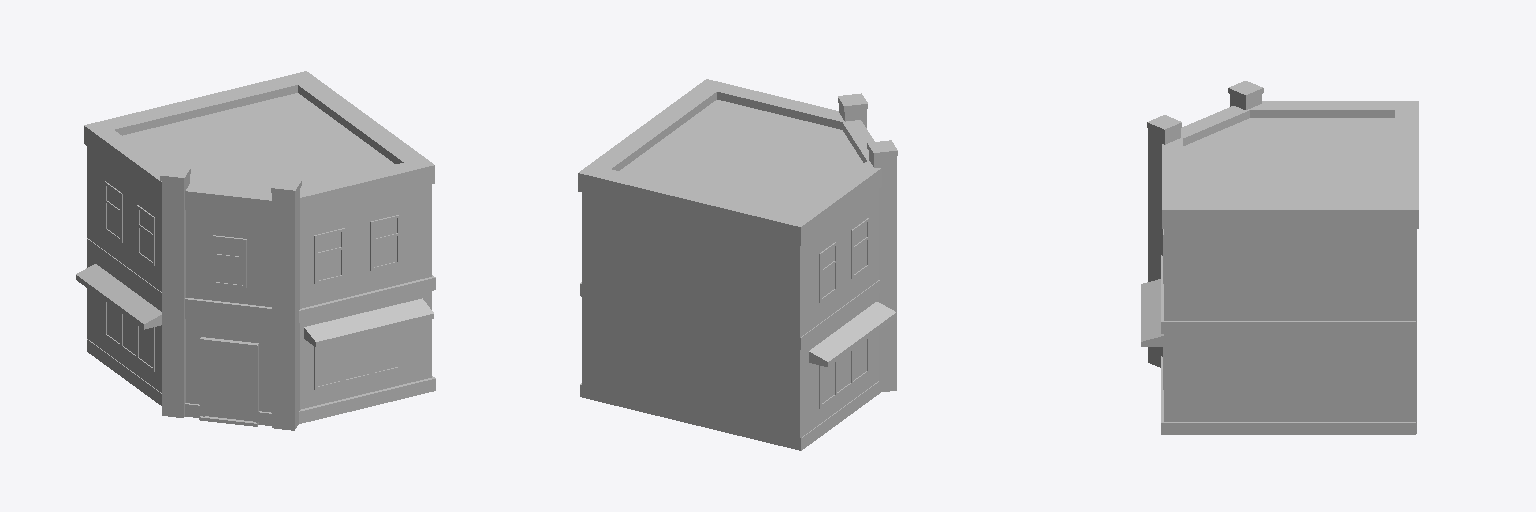
Rendered from Building_Fruits  Shop.obj.
3 views of the same model, side by side, from view 1: azimuth 30°, elevation 25°; view 2: azimuth 150°, elevation 25°; view 3: azimuth 270°, elevation 25° (orthographic).
Parts seen in each view (by area): view 1: Building_Fruits__Shop; view 2: Building_Fruits__Shop; view 3: Building_Fruits__Shop.
Part boxes in pixels (left/top/right/bottom): Building_Fruits__Shop: left=76, top=71, right=435, bottom=430; Building_Fruits__Shop: left=578, top=79, right=897, bottom=450; Building_Fruits__Shop: left=1141, top=81, right=1418, bottom=434.
Size of the model in its own units: 477 by 457 by 479.